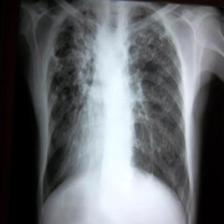tuberculosis: (39, 0, 197, 224)
